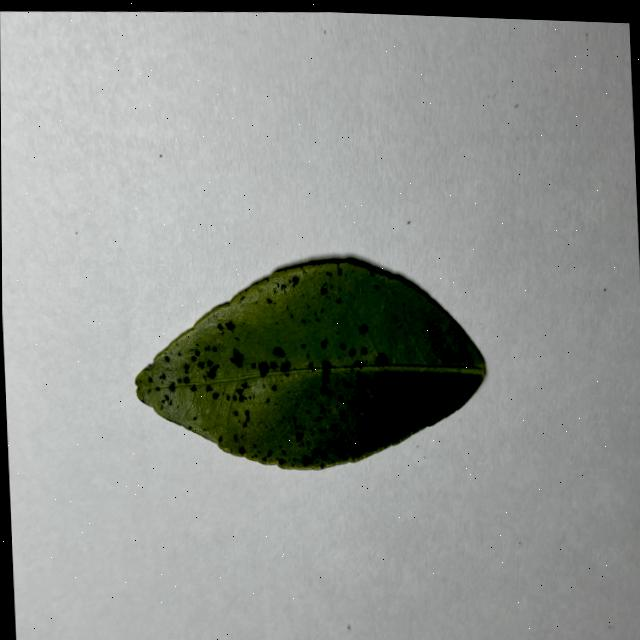sooty_mold: (135, 262, 484, 470)
